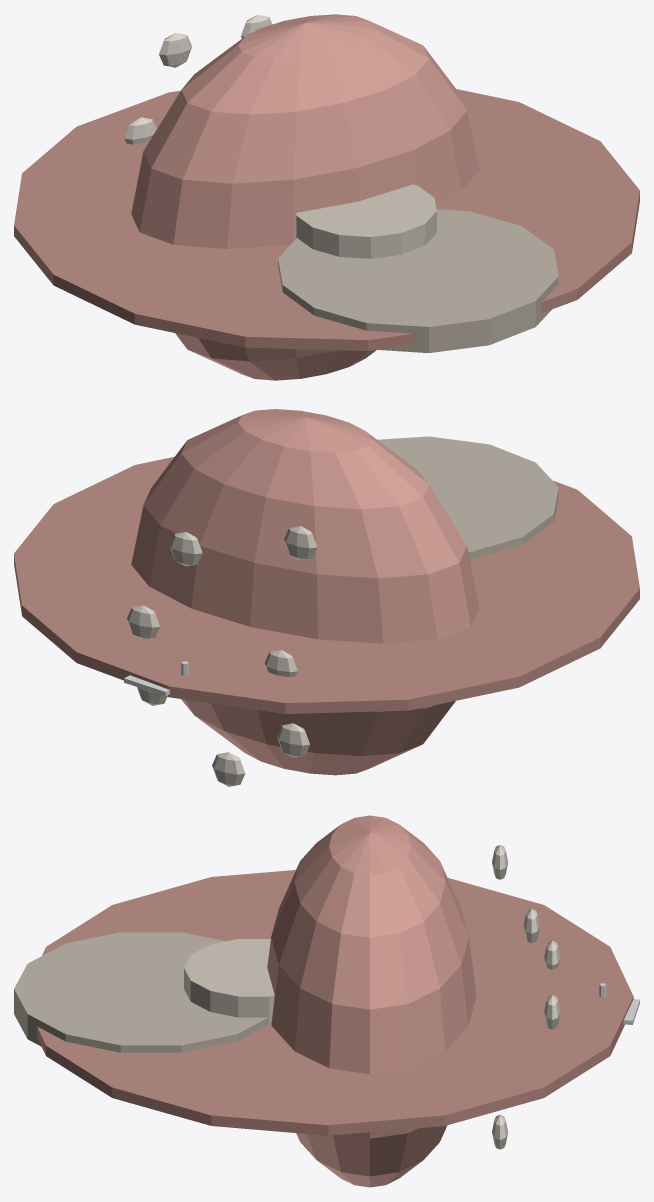
File: tower_red_outer.fbx
3 renders of one model, top to bottom at view 1: azimuth 30°, elevation 25°; view 2: azimuth 150°, elevation 25°; view 3: azimuth 270°, elevation 25°, orthographic. The views are drawn at different scales.
Visible parts, largest first — view 1: Top_Cap, Body; view 2: Top_Cap, Body; view 3: Top_Cap, Body.
Boxes of the visible parts, x1,y1,x2,y2 form: Top_Cap: (14,14,639,380); Body: (278,184,558,352); Top_Cap: (14,409,639,786); Body: (377,436,558,559); Top_Cap: (37,815,633,1187); Body: (14,932,274,1052).
Size of the model in its own units: 262 by 160 by 269.
